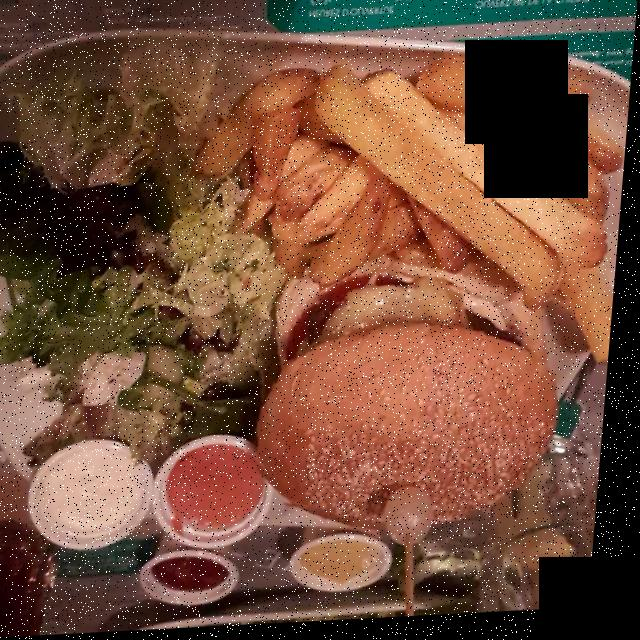cheese-for-raclette: (324, 277, 469, 353)
chips-french-fries: (193, 61, 613, 380)
hamburger-bread-meat-ketchup: (253, 239, 561, 525)
ketchup: (158, 545, 235, 601)
mayonnaise: (30, 437, 160, 542)
mustard: (315, 536, 391, 589)
sauce-cocktail: (185, 446, 275, 547)
